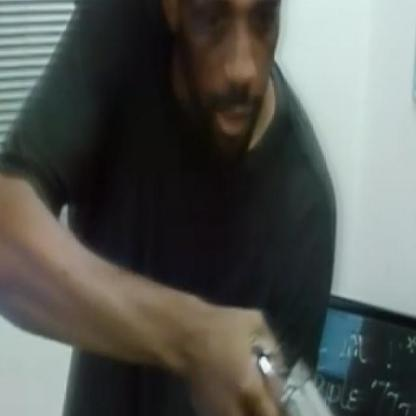gun: (239, 313, 395, 415)
